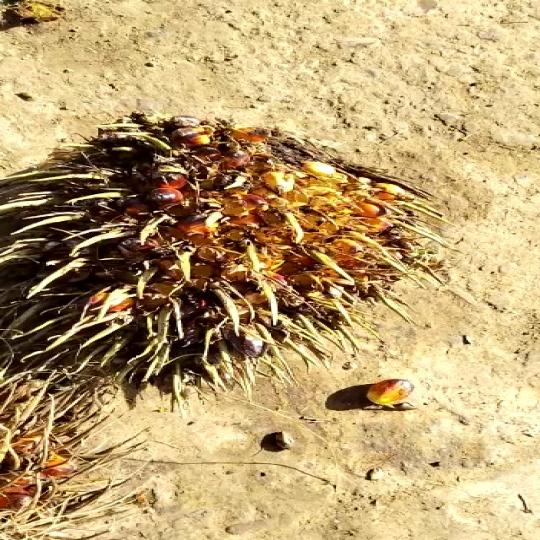terlalu masak: (0, 114, 425, 410)
